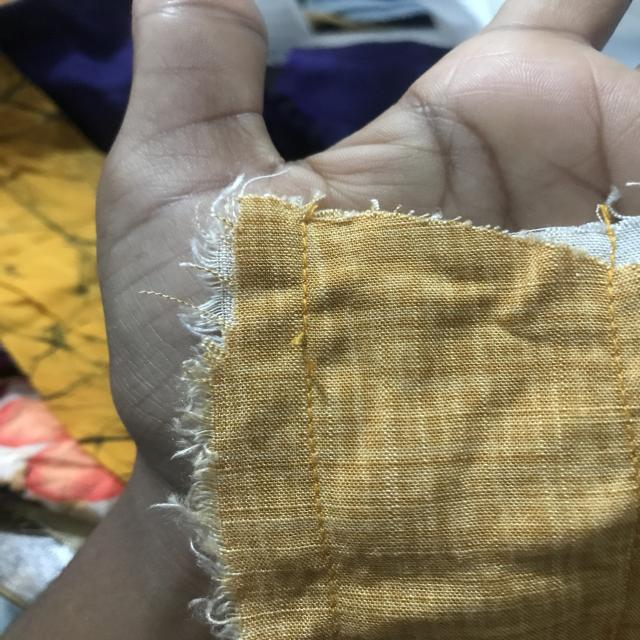broken: (282, 316, 328, 399)
